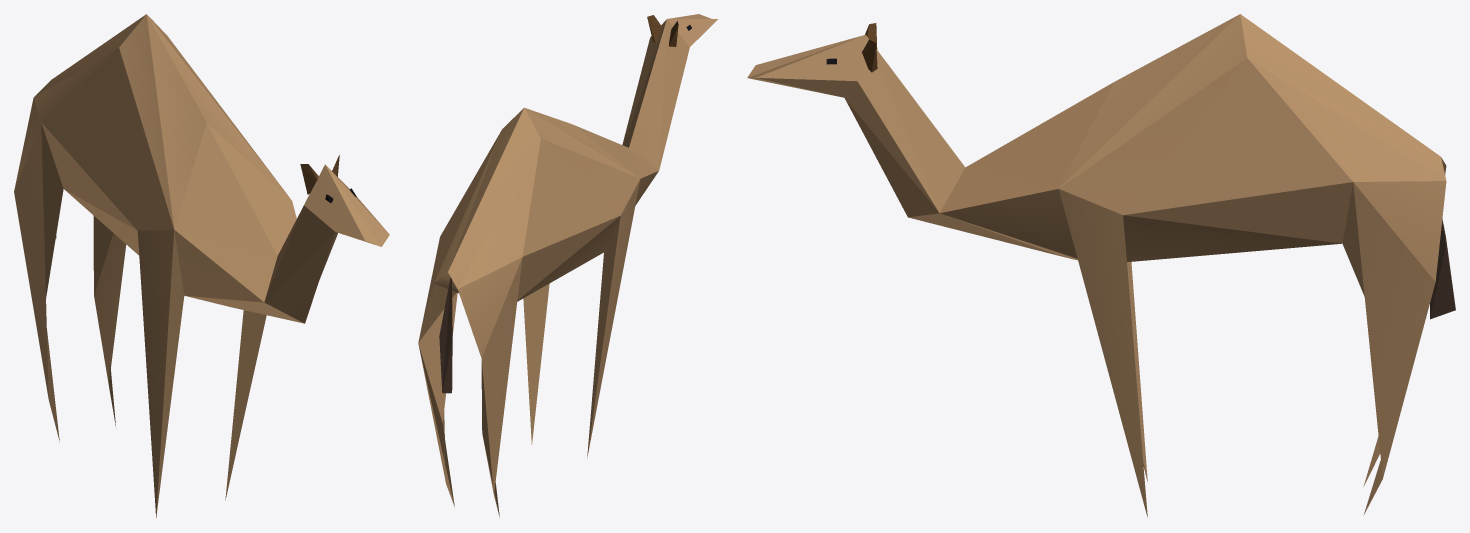
File: camel_lod2.glb
The picture shows the model from 3 angles, left to right: view 1: azimuth 30°, elevation 25°; view 2: azimuth 150°, elevation 25°; view 3: azimuth 270°, elevation 25°; orthographic projection. The views are drawn at different scales.
Parts seen in each view (by area): view 1: camel; view 2: camel; view 3: camel.
Boxes of the visible parts, <box> form: camel: <box>14,14,389,517</box>; camel: <box>418,14,717,516</box>; camel: <box>747,14,1455,517</box>.
Size of the model in its own units: 0.692 by 2.37 by 3.12.
